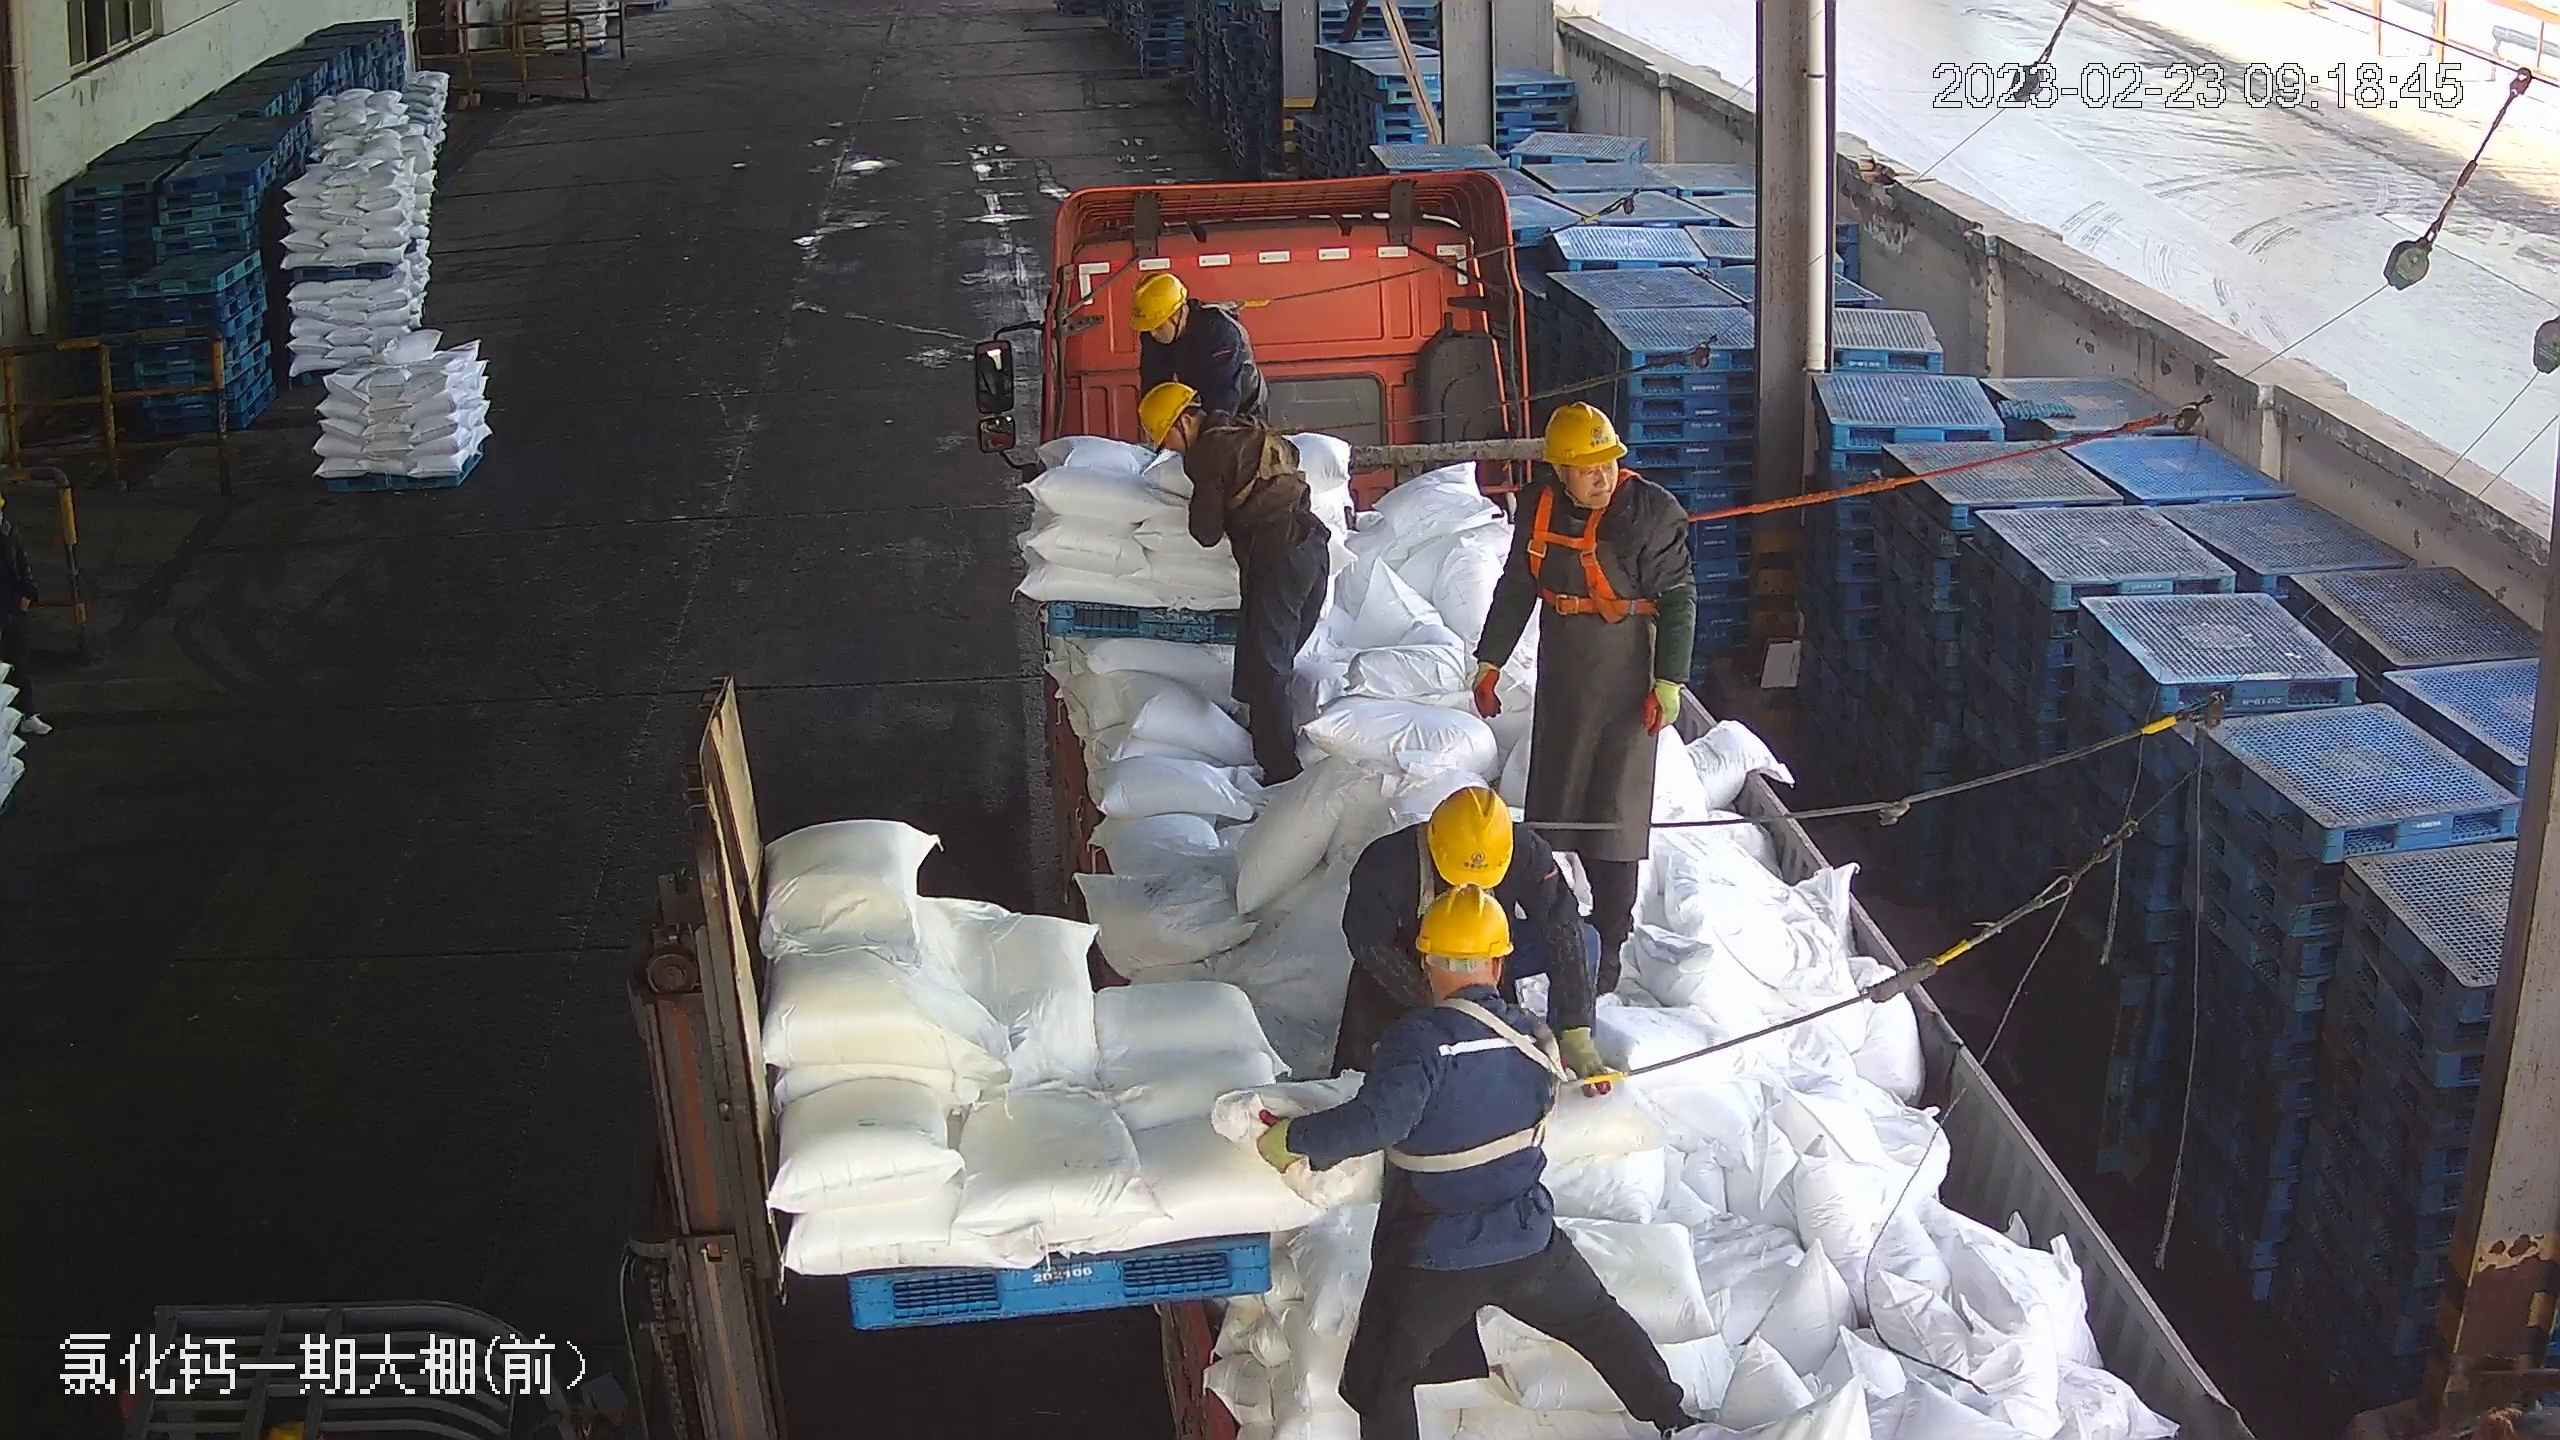belt: (1396, 998, 1628, 1167), (1528, 472, 1704, 618), (1204, 414, 1314, 508), (1199, 296, 1273, 349)
head: (1377, 889, 1564, 1098), (1344, 780, 1577, 936), (1505, 401, 1686, 565), (1140, 381, 1263, 490), (1135, 278, 1257, 363)
helmet: (1424, 783, 1513, 894), (1414, 886, 1512, 957), (1538, 401, 1624, 467), (1138, 378, 1196, 441), (1131, 271, 1184, 330)
people: (1247, 891, 1699, 1440), (1468, 396, 1695, 999), (1140, 379, 1329, 787), (1126, 272, 1277, 431)
truck: (979, 164, 2253, 1438)
